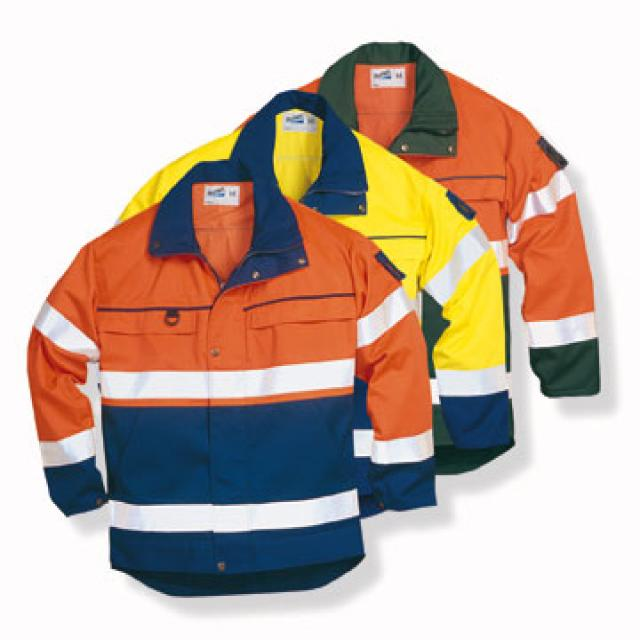Reflective-Jacket: (12, 104, 466, 615)
